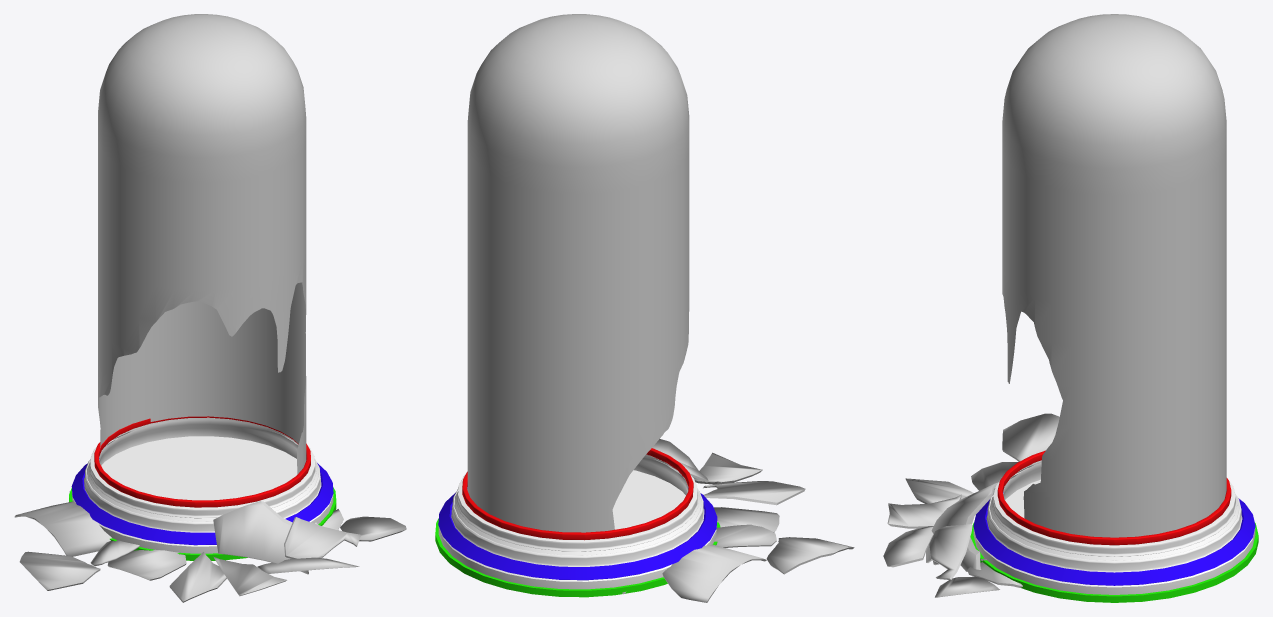
Rendered from glasscontainer_02.fbx.
The picture shows the model from 3 angles, left to right: view 1: azimuth 30°, elevation 25°; view 2: azimuth 150°, elevation 25°; view 3: azimuth 270°, elevation 25°; orthographic projection. The views are drawn at different scales.
Parts seen in each view (by area): view 1: Sphere.006, Sphere.003, Sphere.007_cell.039_cell.003; view 2: Sphere.006, Sphere.003, Sphere.007_cell.039_cell.003; view 3: Sphere.006, Sphere.003, Sphere.007_cell.039_cell.003.
Boxes of the visible parts, x1=… form: Sphere.006: x1=98, y1=14, x2=306, y2=474; Sphere.003: x1=69, y1=416, x2=336, y2=560; Sphere.007_cell.039_cell.003: x1=14, y1=491, x2=406, y2=602; Sphere.006: x1=467, y1=14, x2=689, y2=532; Sphere.003: x1=435, y1=448, x2=720, y2=597; Sphere.007_cell.039_cell.003: x1=622, y1=439, x2=854, y2=602; Sphere.006: x1=1002, y1=14, x2=1226, y2=537; Sphere.003: x1=970, y1=450, x2=1258, y2=602; Sphere.007_cell.039_cell.003: x1=883, y1=413, x2=1059, y2=597.
Bounding box in the file's own units: 182 × 253 × 164.
